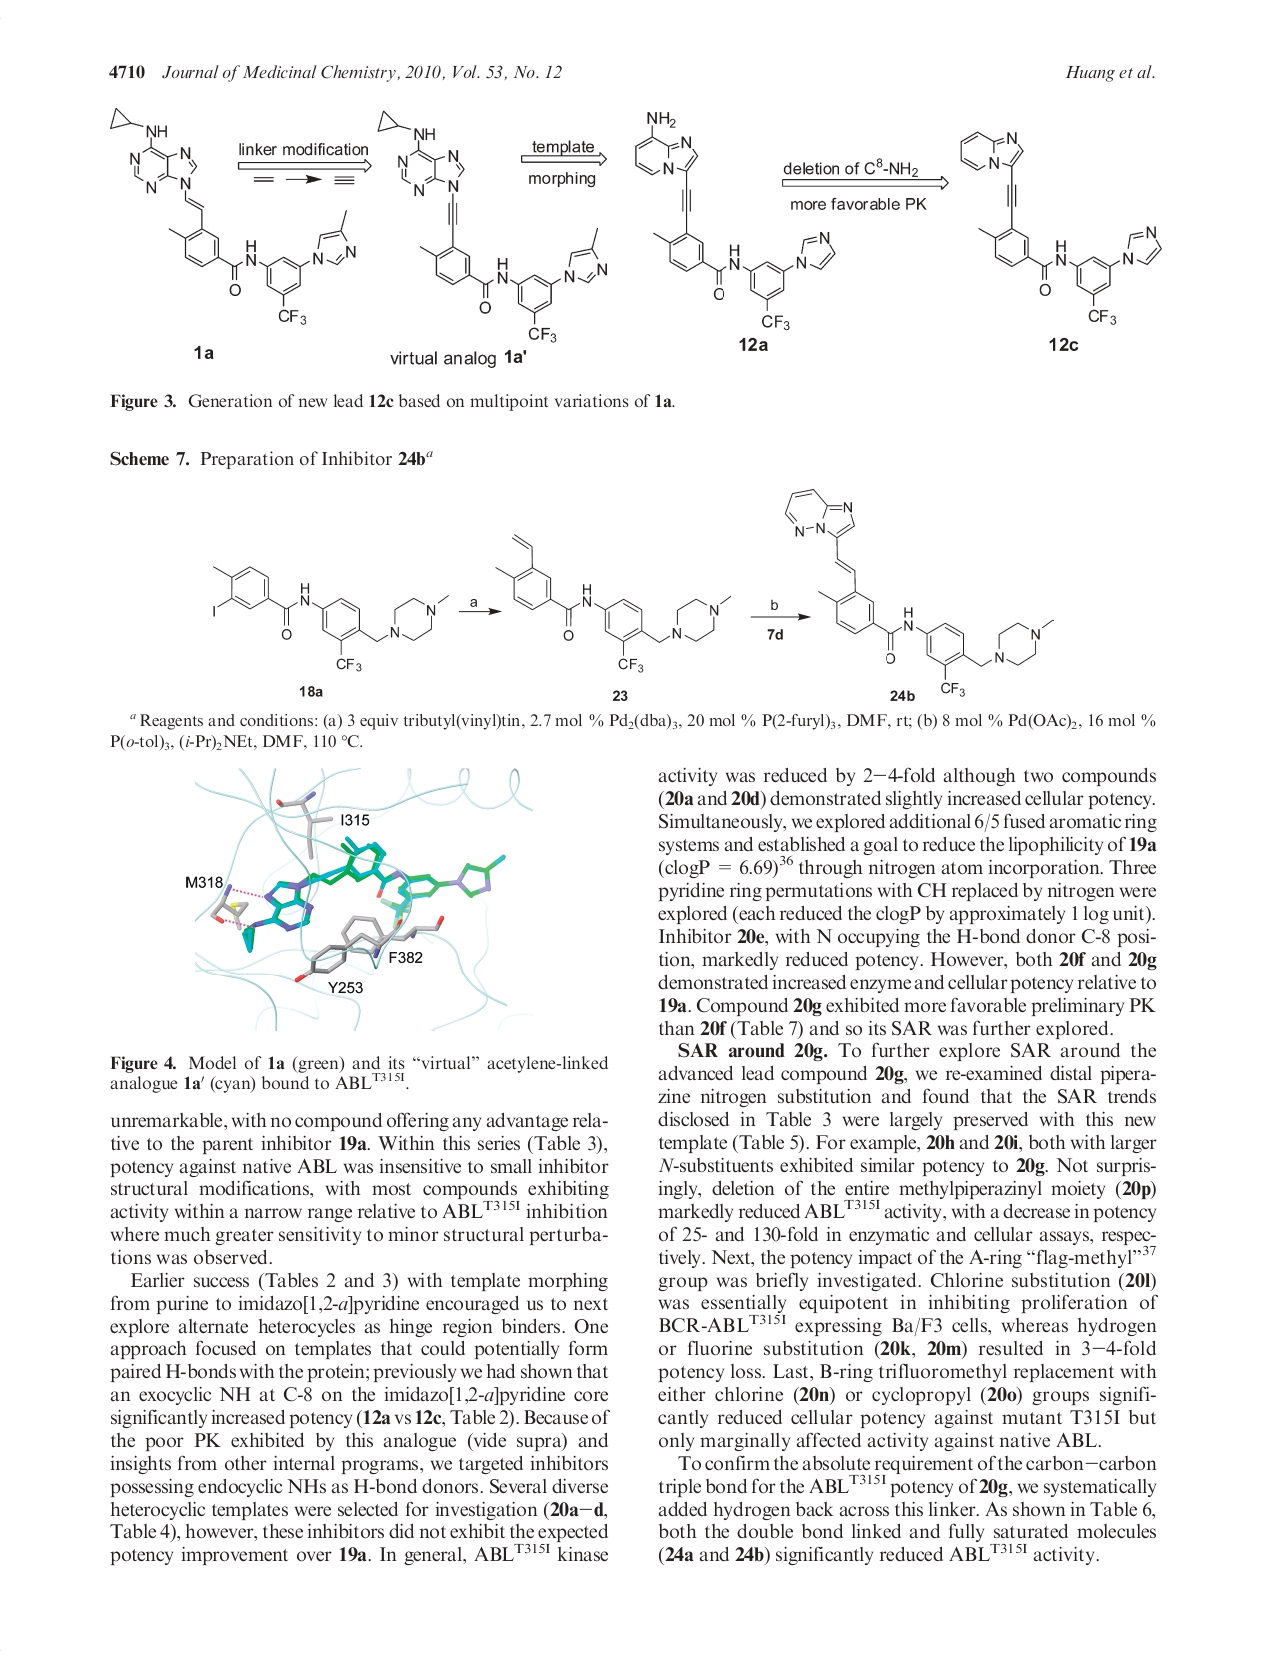exist_molecular: (785, 485, 1053, 697), (375, 109, 610, 344), (106, 106, 358, 326), (633, 108, 838, 331), (957, 130, 1164, 327), (493, 533, 733, 674), (209, 559, 448, 672)
